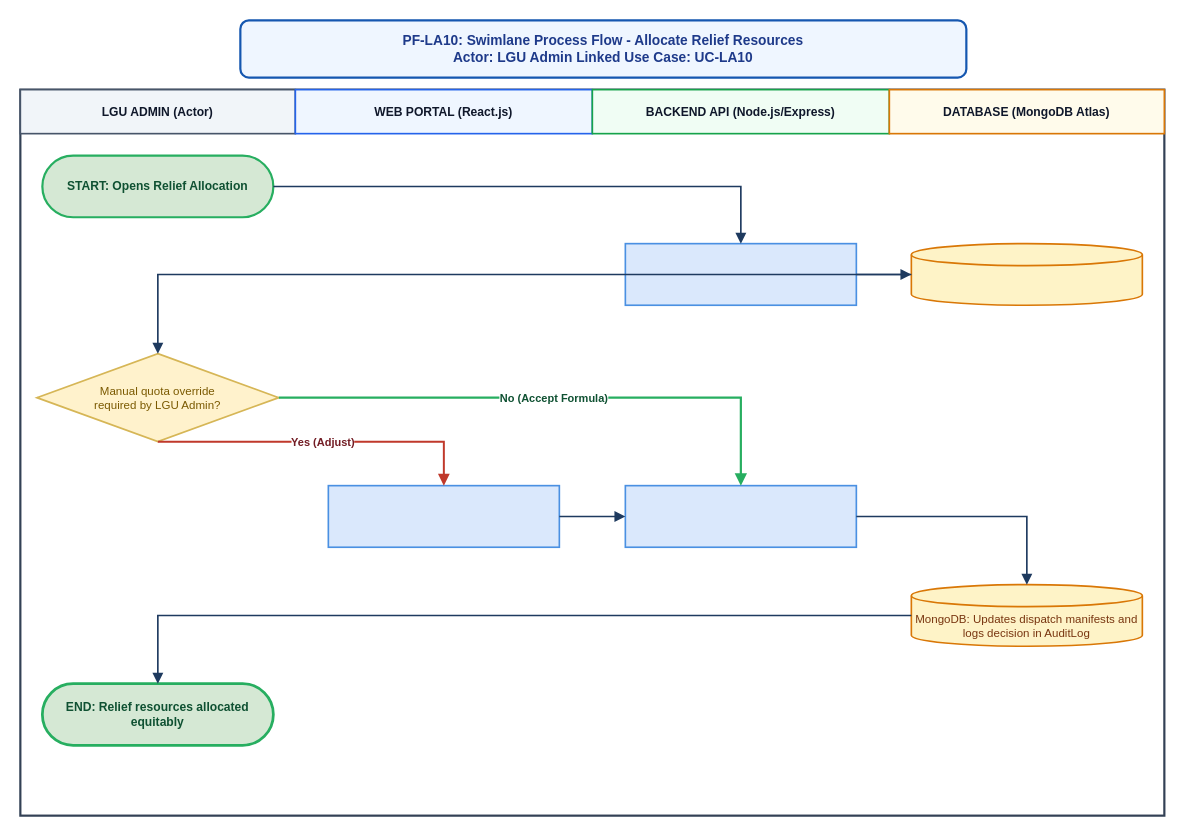
Some shapes in this 1184 by 835 pixel diagram are drawn without their labels. The shapes that lost their labels are listed below. From the top down, each one's centre as x and y in pixels, then its label:
At pixel 740 274: "Computes right-sized relief allocation formula based on population & priority".
At pixel 1026 274: "MongoDB: Fetches verified population & warehouse inventory stock".
At pixel 443 516: "Admin fine-tunes specific barangay package allocations in modal".
At pixel 740 516: "POST /api/warehouse/:id/dispatch to generate warehouse dispatch manifests".
